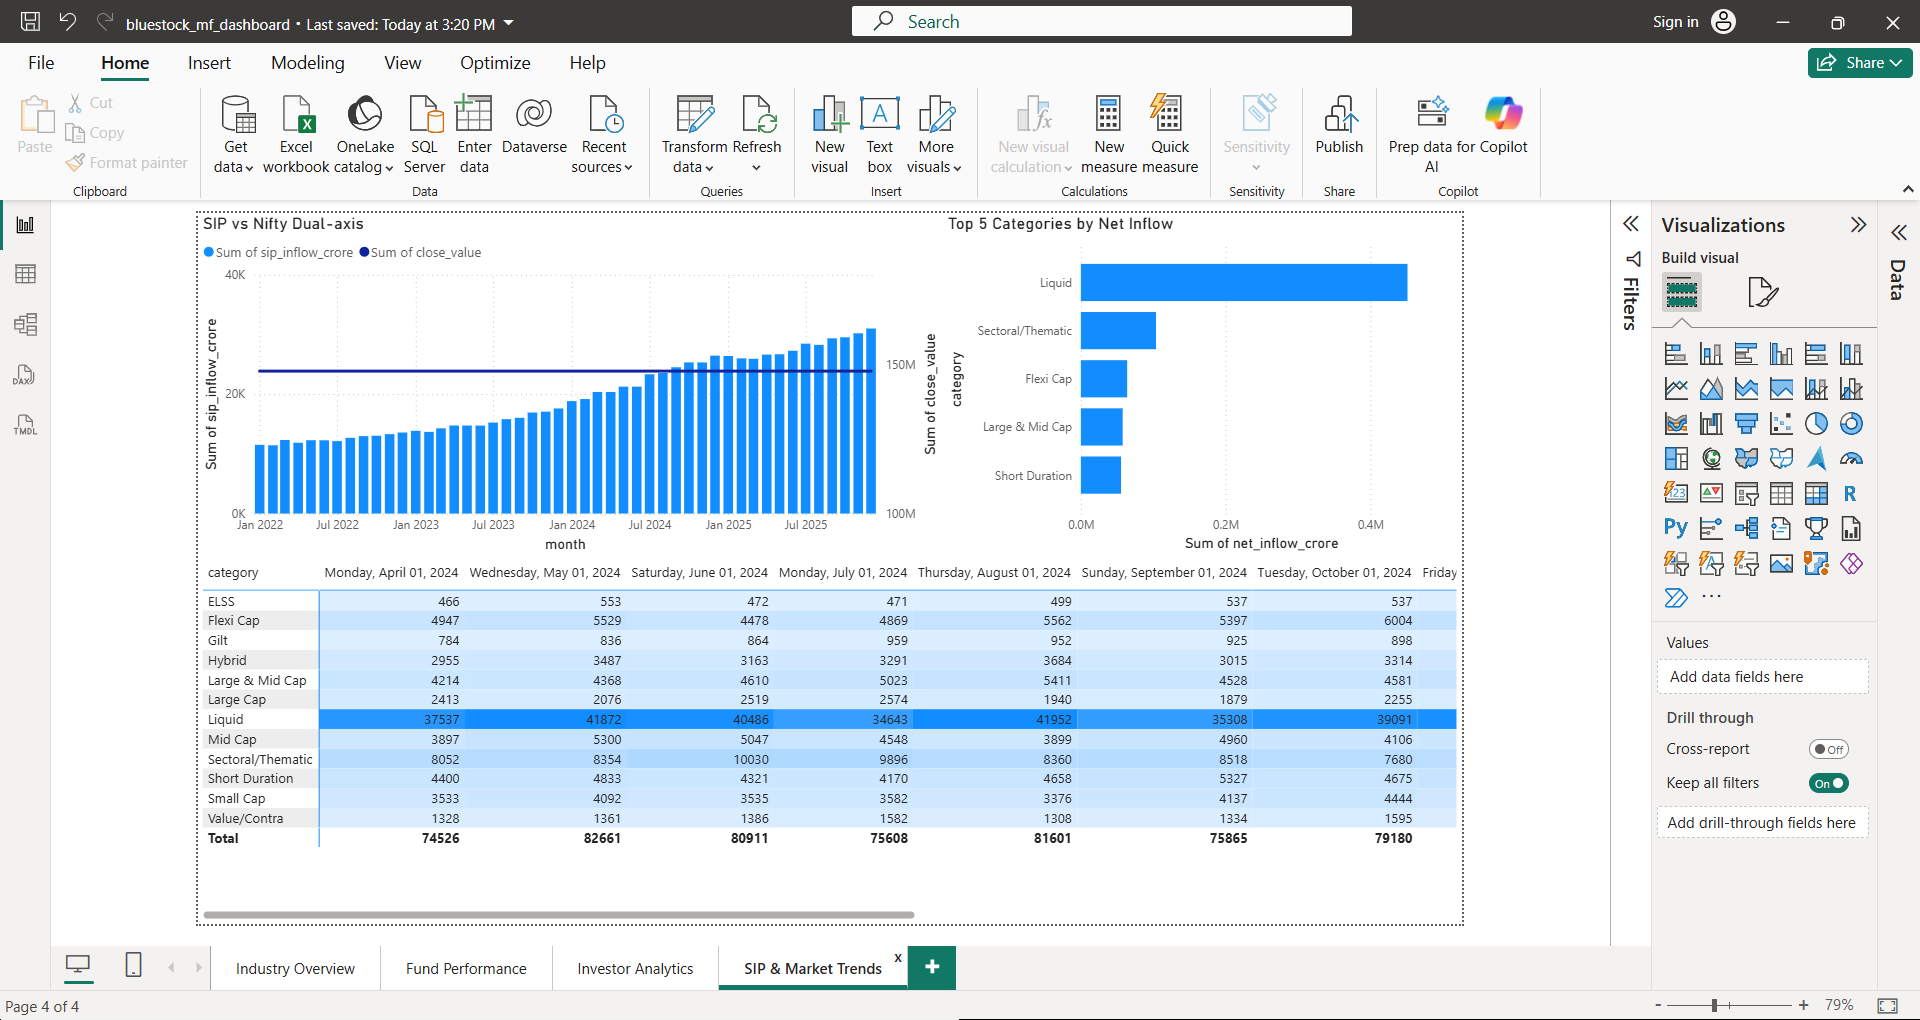

What the dashboard file says about the page in this screenshot:
{"tool":"powerbi","page":{"name":"SIP & Market Trends","canvas":[1280,720],"ordinal":3},"visuals":[{"type":"lineClusteredColumnComboChart","title":"SIP vs Nifty Dual-axis","fields":{"Y":["Sum(04_monthly_sip_inflows.sip_inflow_crore)"],"Y2":["Sum(10_benchmark_indices.close_value)"],"Category":["04_monthly_sip_inflows.month"]},"box":[0,0,754.4,348.1],"z":0},{"type":"pivotTable","fields":{"Rows":["05_category_inflows.category"],"Columns":["05_category_inflows.month"],"Values":["Sum(05_category_inflows.net_inflow_crore)"]},"box":[0,348.1,1279.7,372.2],"z":1},{"type":"clusteredBarChart","title":"Top 5 Categories by Net Inflow","fields":{"Category":["05_category_inflows.category"],"Y":["Sum(05_category_inflows.net_inflow_crore)"]},"box":[754.4,0,525.3,348.1],"z":2}]}

Visuals, with their boxes on the page's 1280x720 design canvas (x1, y1, x2, y2). These are canvas units, not pixel positions in the 1920x1020 screenshot, which may show the page scaled, cropped or inside an application window:
"SIP vs Nifty Dual-axis" lineClusteredColumnComboChart: Rect(0, 0, 754, 348)
pivotTable - 05_category_inflows.category x 05_category_inflows.month: Rect(0, 348, 1280, 720)
"Top 5 Categories by Net Inflow" clusteredBarChart: Rect(754, 0, 1280, 348)
